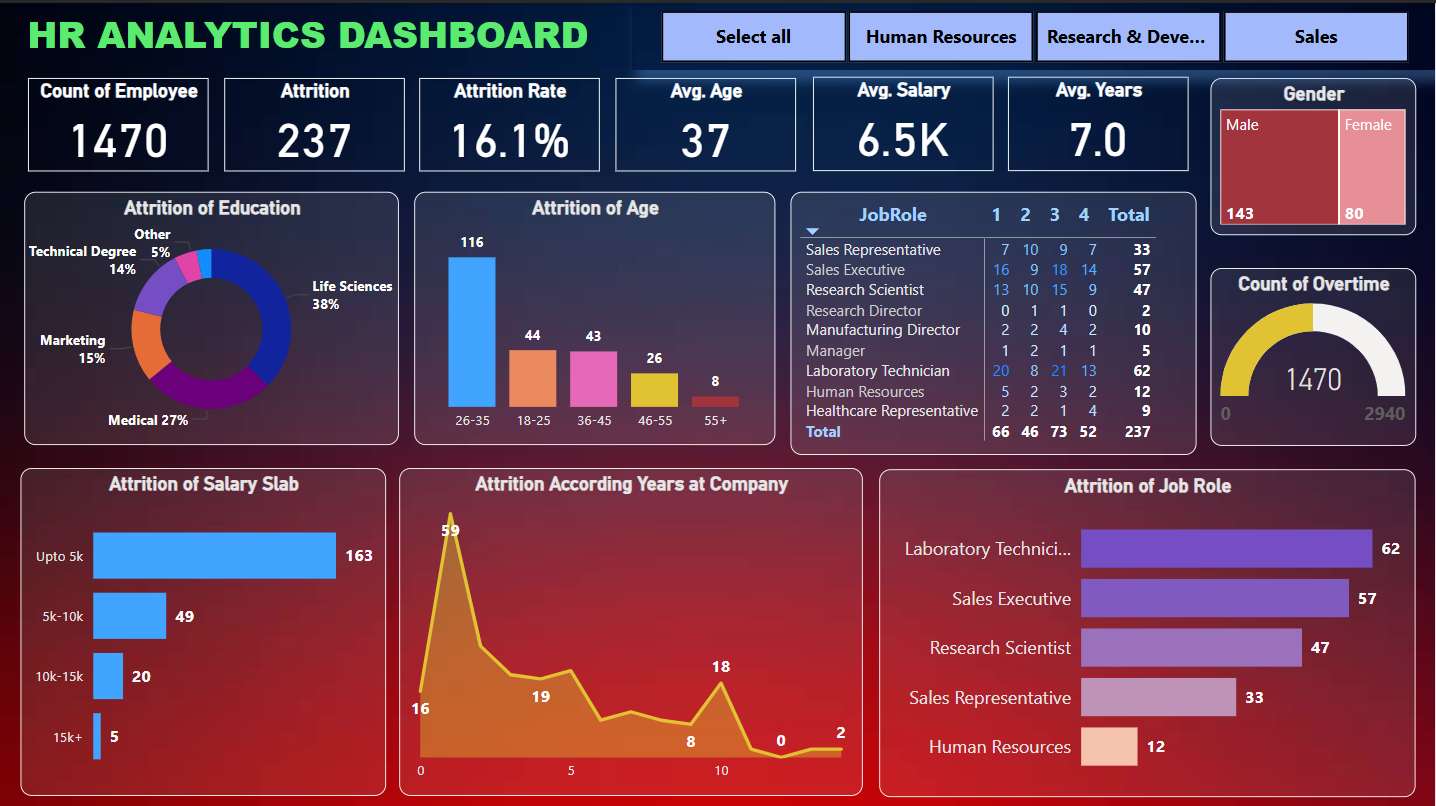

What the dashboard file says about the page in this screenshot:
{"tool":"powerbi","page":{"name":"Page 1","canvas":[1280,720],"ordinal":0},"visuals":[{"type":"card","title":"Count of Employee","fields":{"Values":["CountNonNull(HR_Analytics.EmpID)"]},"box":[26.3,66.4,160.8,83.2],"z":0},{"type":"card","title":"Attrition","fields":{"Values":["Sum(HR_Analytics.AttritionCount)"]},"box":[201.4,66.4,160.8,83.2],"z":1000},{"type":"card","title":"Attrition Rate","fields":{"Values":["HR_Analytics.AttritionRate"]},"box":[375.1,66.4,160.8,83.2],"z":2000},{"type":"card","title":"Avg. Age","fields":{"Values":["Avg(HR_Analytics.Age)"]},"box":[550.2,66.4,160.8,83.2],"z":3000},{"type":"card","title":"Avg. Salary","fields":{"Values":["Avg(HR_Analytics.MonthlyIncome)"]},"box":[725.4,66.2,160.5,83.7],"z":4000},{"type":"card","title":"Avg. Years","fields":{"Values":["Avg(HR_Analytics.YearsAtCompany)"]},"box":[899.7,66.2,160.5,83.7],"z":5000},{"type":"donutChart","title":"Attrition of Education","fields":{"Category":["HR_Analytics.EducationField"],"Y":["Sum(HR_Analytics.AttritionCount)"]},"box":[23.3,168.1,333.7,225.8],"z":6000},{"type":"columnChart","title":"Attrition of Age","fields":{"Category":["HR_Analytics.AgeGroup"],"Y":["Sum(HR_Analytics.AttritionCount)"]},"box":[370.6,168.1,321.5,225.8],"z":7000},{"type":"pivotTable","fields":{"Rows":["HR_Analytics.JobRole"],"Columns":["HR_Analytics.JobSatisfaction"],"Values":["Sum(HR_Analytics.AttritionCount)"]},"box":[705.5,168.1,362,234.4],"z":8000},{"type":"clusteredBarChart","title":"Attrition of Salary Slab","fields":{"Category":["HR_Analytics.SalarySlab"],"Y":["Sum(HR_Analytics.AttritionCount)"]},"box":[20.4,414.2,325.3,291.9],"z":9000},{"type":"clusteredBarChart","title":"Attrition of Job Role","fields":{"Category":["HR_Analytics.JobRole"],"Y":["Sum(HR_Analytics.AttritionCount)"]},"box":[785.3,414.7,477.3,292],"z":10000},{"type":"areaChart","title":"Attrition According Years at Company","fields":{"Category":["HR_Analytics.YearsAtCompany"],"Y":["Sum(HR_Analytics.AttritionCount)"]},"box":[356.8,414.2,412.9,291.9],"z":11000},{"type":"treemap","title":"Gender","fields":{"Group":["HR_Analytics.Gender"],"Values":["Sum(HR_Analytics.AttritionCount)"]},"box":[1079.8,66.3,182.8,139.9],"z":12000},{"type":"gauge","title":"Count of Overtime","fields":{"Y":["CountNonNull(HR_Analytics.OverTime)"]},"box":[1079.8,235.6,182.8,158.3],"z":13000},{"type":"textbox","box":[20.9,0,554.6,61.4],"z":14000},{"type":"slicer","fields":{"Values":["HR_Analytics.Department"]},"box":[564.4,0,715.9,59.8],"z":15000}]}

Visuals, with their boxes in screenshot pixels (x1, y1, x2, y2), scaled from the page's 1280x720 canvas onto the 1436x806 screenshot:
"Count of Employee" card: rect(30, 74, 210, 167)
"Attrition" card: rect(226, 74, 406, 167)
"Attrition Rate" card: rect(421, 74, 601, 167)
"Avg. Age" card: rect(617, 74, 798, 167)
"Avg. Salary" card: rect(814, 74, 994, 168)
"Avg. Years" card: rect(1009, 74, 1189, 168)
"Attrition of Education" donutChart: rect(26, 188, 401, 441)
"Attrition of Age" columnChart: rect(416, 188, 776, 441)
pivotTable - HR_Analytics.JobRole x HR_Analytics.JobSatisfaction: rect(791, 188, 1198, 451)
"Attrition of Salary Slab" clusteredBarChart: rect(23, 464, 388, 790)
"Attrition of Job Role" clusteredBarChart: rect(881, 464, 1416, 791)
"Attrition According Years at Company" areaChart: rect(400, 464, 864, 790)
"Gender" treemap: rect(1211, 74, 1416, 231)
"Count of Overtime" gauge: rect(1211, 264, 1416, 441)
textbox: rect(23, 0, 646, 69)
slicer - HR_Analytics.Department: rect(633, 0, 1435, 67)
